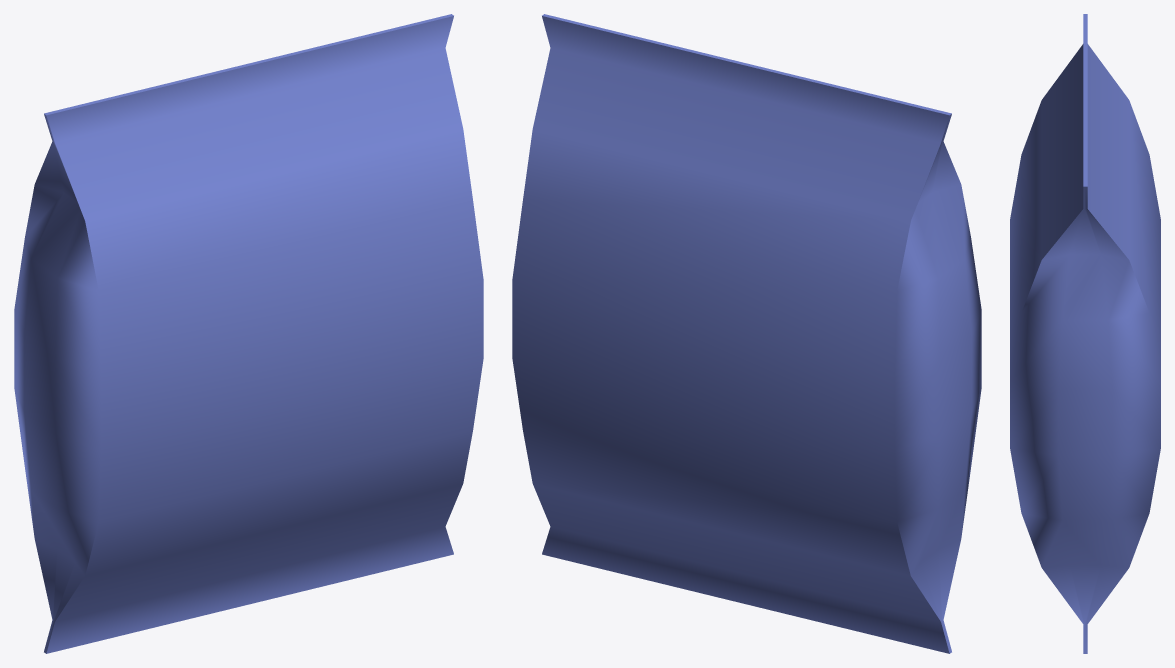
File: Papas 2.fbx
The picture shows the model from 3 angles, left to right: view 1: azimuth 30°, elevation 25°; view 2: azimuth 150°, elevation 25°; view 3: azimuth 270°, elevation 25°; orthographic projection. The views are drawn at different scales.
Parts seen in each view (by area): view 1: Snacks2; view 2: Snacks2; view 3: Snacks2.
Boxes of the visible parts, box(x1,y1,x2,y2) form: Snacks2: box(14, 14, 483, 653); Snacks2: box(512, 14, 981, 653); Snacks2: box(1010, 14, 1160, 653).
Bounding box in the file's own units: 0.0073 × 0.00898 × 0.00263.
